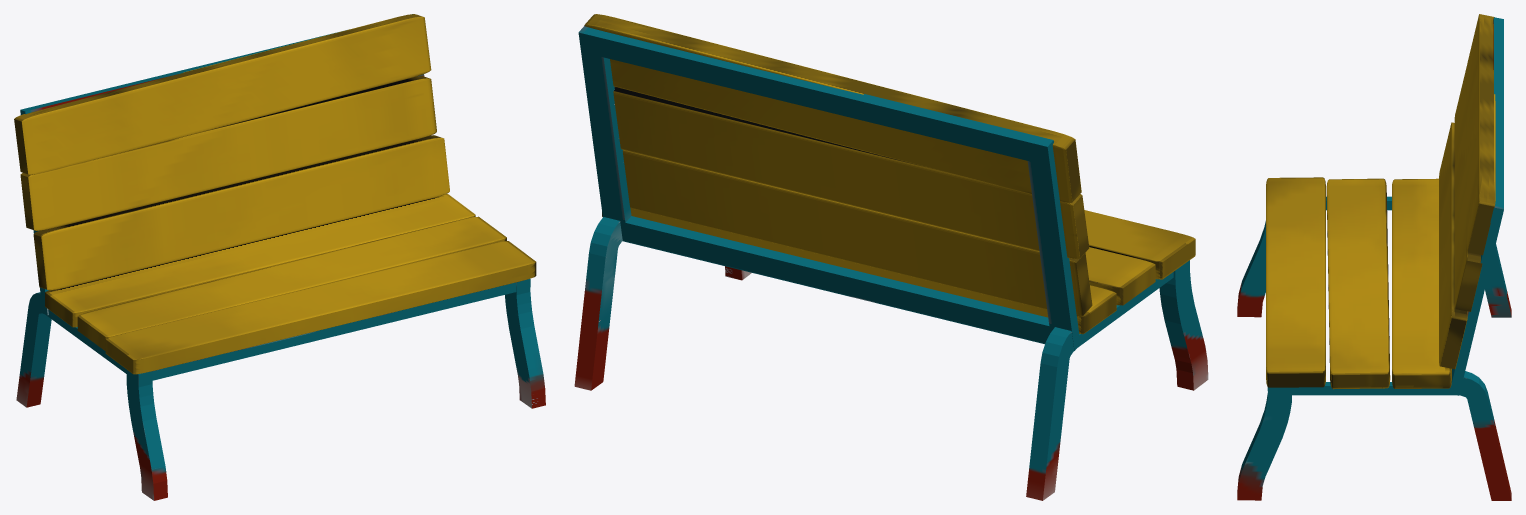
Rendered from bench.obj.
3 views of the same model, side by side, from view 1: azimuth 30°, elevation 25°; view 2: azimuth 150°, elevation 25°; view 3: azimuth 270°, elevation 25° (orthographic). The views are drawn at different scales.
Visible parts, largest first — view 1: Cube.002, Cube; view 2: Cube.002, Cube; view 3: Cube.002, Cube.
Boxes of the visible parts, x1=… form: Cube.002: x1=14, y1=14, x2=536, y2=374; Cube: x1=16, y1=14, x2=545, y2=500; Cube.002: x1=584, y1=14, x2=1195, y2=334; Cube: x1=574, y1=26, x2=1208, y2=500; Cube.002: x1=1266, y1=14, x2=1495, y2=389; Cube: x1=1237, y1=17, x2=1511, y2=500.
Bounding box in the file's own units: 35.87 × 25.12 × 20.86.
